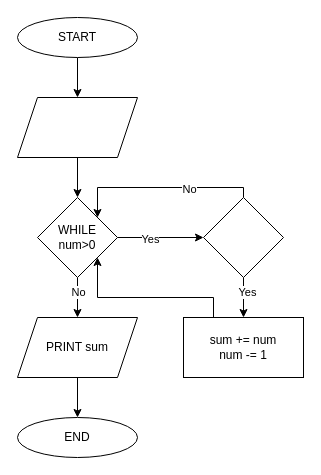
This 321x475 diagram has some shape labels left out. Here are the shapes that lost their labels. From the top down, the centre of each, then its label:
At (x=77, y=127): "INPUT num Sum = 0".
At (x=243, y=237): "IF num%2==0".
